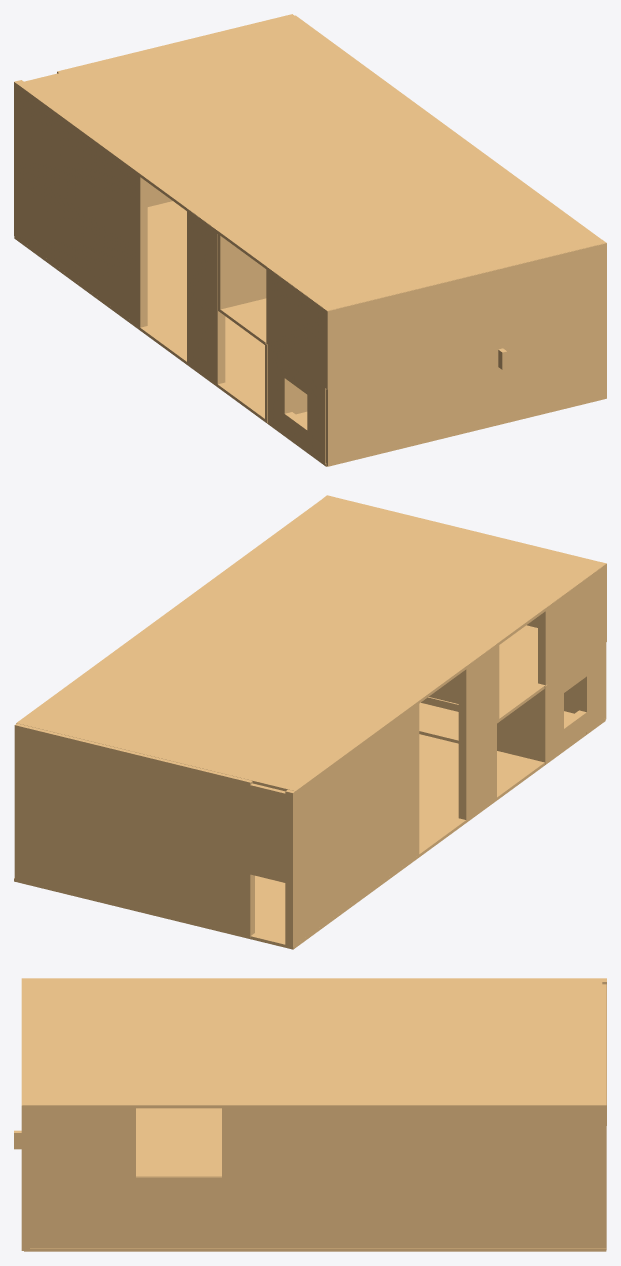
Rendered from aptodospisos.obj.
The picture shows the model from 3 angles, top to bottom: view 1: azimuth 30°, elevation 25°; view 2: azimuth 150°, elevation 25°; view 3: azimuth 270°, elevation 25°; orthographic projection. The views are drawn at different scales.
Visible parts, largest first — view 1: Apartamento TechoYsuelo pCube103, Apartamento LoftParedes pCube8, Apartamento LoftParedes pCube56, Apartamento LoftParedes pCube104, Apartamento LoftParedes pCube61, Apartamento pCube50 TechoYsuelo, Apartamento LoftParedes pCube57, Apartamento LoftParedes pCube6, Apartamento LoftParedes pCube95, Apartamento LoftParedes pCube58, Apartamento LoftParedes pCube7, Apartamento LoftParedes pCube97 (+5 smaller); view 2: Apartamento TechoYsuelo pCube103, Apartamento LoftParedes pCube60, Apartamento pCube2 LoftParedes, Apartamento LoftParedes pCube104, Apartamento LoftParedes pCube61, Apartamento pCube50 TechoYsuelo, Apartamento LoftParedes pCube57, Apartamento TechoYsuelo pCube55, Apartamento LoftParedes pCube105, Apartamento LoftParedes pCube6, Apartamento LoftParedes pCube58, Apartamento LoftParedes pCube51 (+5 smaller); view 3: Apartamento TechoYsuelo pCube103, Apartamento LoftParedes pCube30, Apartamento LoftParedes pCube59, Apartamento LoftParedes pCube96, Apartamento TechoYsuelo pCube55, Apartamento pCube50 TechoYsuelo, Apartamento LoftParedes pCube60, Apartamento LoftParedes pCube56, Apartamento LoftParedes pCube8, Apartamento pCube2 LoftParedes.
Boxes of the visible parts, x1,y1,x2,y2 form: Apartamento TechoYsuelo pCube103: (16, 15, 605, 310); Apartamento LoftParedes pCube8: (325, 320, 606, 466); Apartamento LoftParedes pCube56: (329, 242, 606, 386); Apartamento LoftParedes pCube104: (14, 158, 147, 327); Apartamento LoftParedes pCube61: (14, 80, 147, 252); Apartamento pCube50 TechoYsuelo: (14, 201, 327, 466); Apartamento LoftParedes pCube57: (266, 267, 335, 389); Apartamento LoftParedes pCube6: (187, 286, 225, 386); Apartamento LoftParedes pCube95: (218, 234, 266, 310); Apartamento LoftParedes pCube58: (187, 208, 217, 309); Apartamento LoftParedes pCube7: (268, 346, 292, 435); Apartamento LoftParedes pCube97: (307, 376, 325, 464); Apartamento TechoYsuelo pCube103: (16, 495, 606, 793); Apartamento LoftParedes pCube60: (14, 723, 252, 860); Apartamento pCube2 LoftParedes: (14, 802, 254, 938); Apartamento LoftParedes pCube104: (285, 777, 419, 947); Apartamento LoftParedes pCube61: (285, 704, 419, 871); Apartamento pCube50 TechoYsuelo: (14, 711, 605, 949); Apartamento LoftParedes pCube57: (538, 563, 606, 685); Apartamento TechoYsuelo pCube55: (419, 625, 604, 743); Apartamento LoftParedes pCube105: (250, 783, 285, 882); Apartamento LoftParedes pCube6: (458, 723, 496, 821); Apartamento LoftParedes pCube58: (458, 644, 496, 743); Apartamento LoftParedes pCube51: (497, 684, 547, 764); Apartamento TechoYsuelo pCube103: (22, 978, 602, 1108); Apartamento LoftParedes pCube30: (30, 1176, 598, 1248); Apartamento LoftParedes pCube59: (222, 1108, 598, 1178); Apartamento LoftParedes pCube96: (22, 1102, 135, 1178); Apartamento TechoYsuelo pCube55: (136, 1108, 221, 1176); Apartamento pCube50 TechoYsuelo: (24, 1248, 606, 1251); Apartamento LoftParedes pCube60: (598, 998, 606, 1178); Apartamento LoftParedes pCube56: (21, 979, 29, 1178); Apartamento LoftParedes pCube8: (21, 1177, 29, 1250); Apartamento pCube2 LoftParedes: (598, 1177, 606, 1249).
Bounding box in the file's own units: 11.34 × 6.06 × 22.28.
